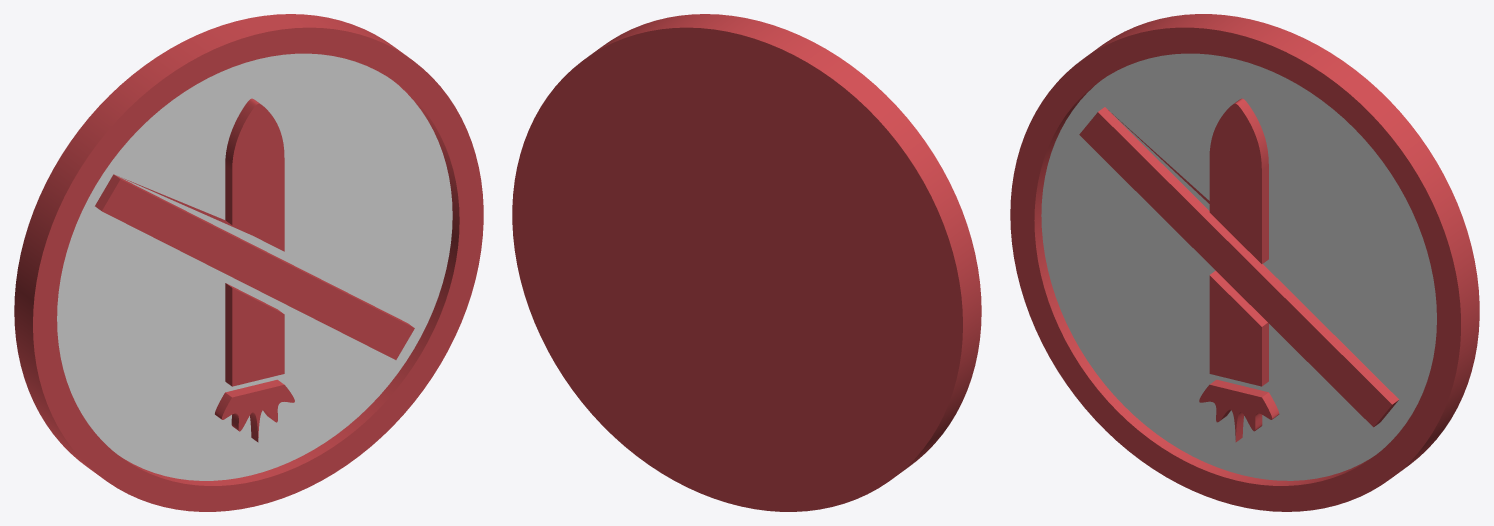
The model's file is NoMisilieFBX.fbx.
The picture shows the model from 3 angles, left to right: view 1: azimuth 30°, elevation 25°; view 2: azimuth 150°, elevation 25°; view 3: azimuth 330°, elevation 25°; orthographic projection.
Visible parts, largest first — view 1: Foreground; view 2: Foreground; view 3: Foreground.
Boxes of the visible parts, bbox=[...] form: Foreground: bbox=[14, 14, 483, 511]; Foreground: bbox=[512, 14, 981, 511]; Foreground: bbox=[1010, 14, 1479, 511].
Size of the model in its own units: 11197 by 11199 by 800.
